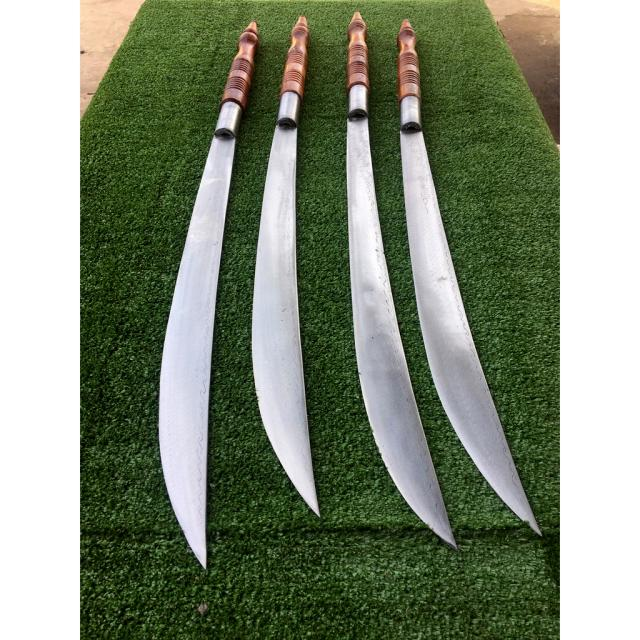long sword: (397, 4, 541, 540), (155, 17, 263, 572), (359, 10, 460, 546), (249, 16, 325, 524)
